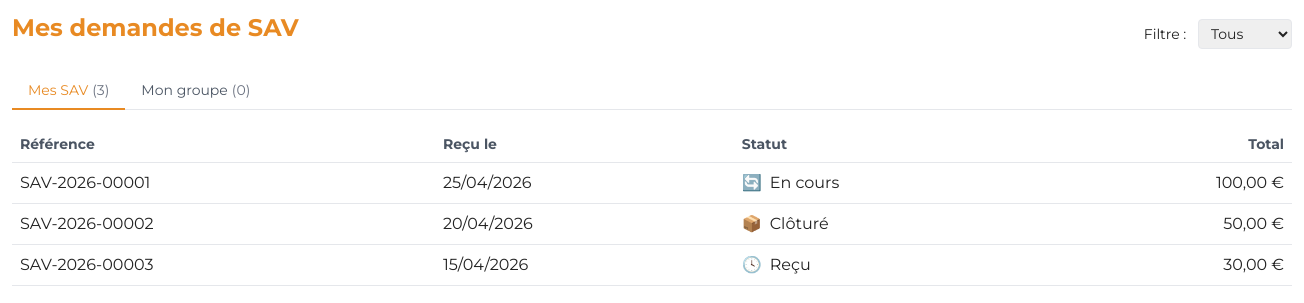
Test: H-08: Filtres recherche self-service (MemberSavListView) › T-W6.5-8-C (self): changement <select> statut sur onglet self NE déclenche PAS de re-fetch (client-side V1)
This screenshot has width=1304, height=303.
Note: Changer le filtre statut → "open"
Select "Ouverts" in the dropdown with test id "status-filter" at (1245, 34), box [1198, 19, 1292, 49]
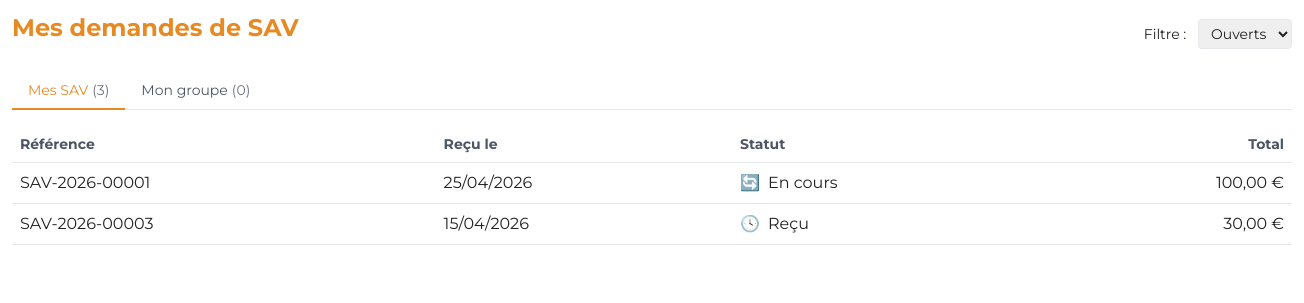
Check: the row with test id "member-sav-row" that starts with "SAV-2026-00001" is shown, box [12, 162, 1292, 204]
Check: the text "SAV-2026-00002" is gone
